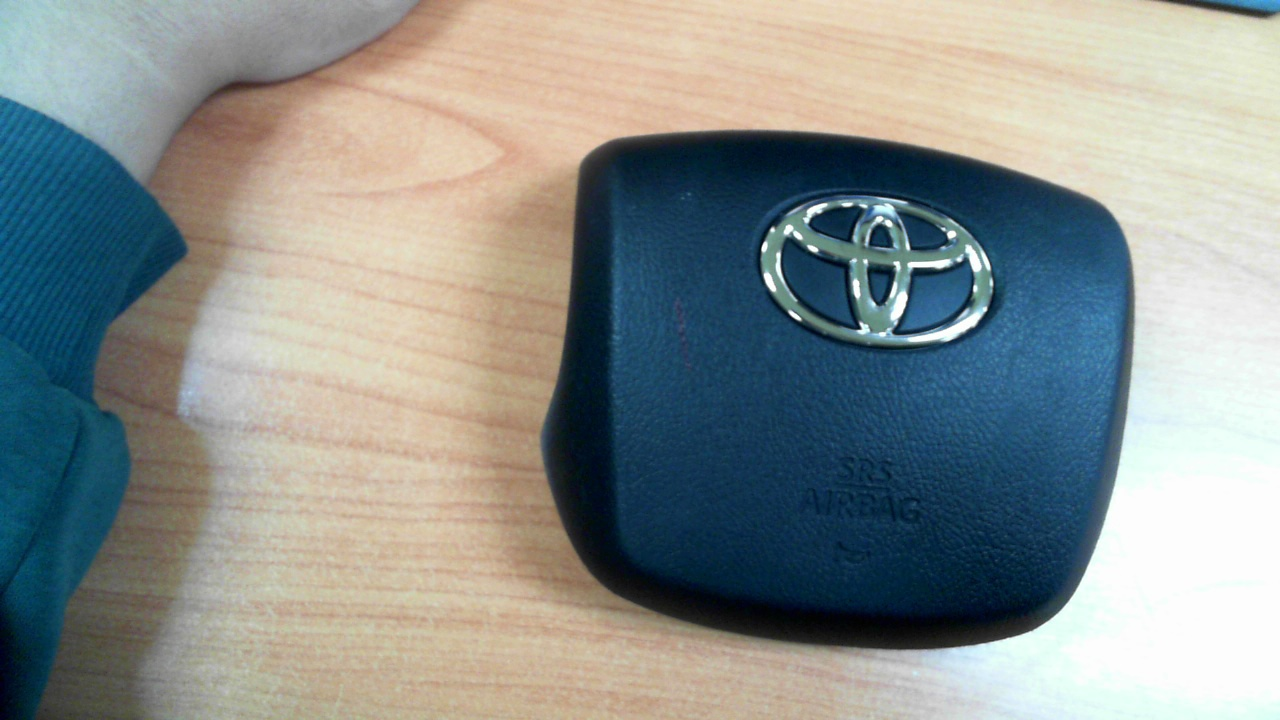Airbag: (539, 127, 1136, 653)
Toyota: (760, 194, 994, 346)
